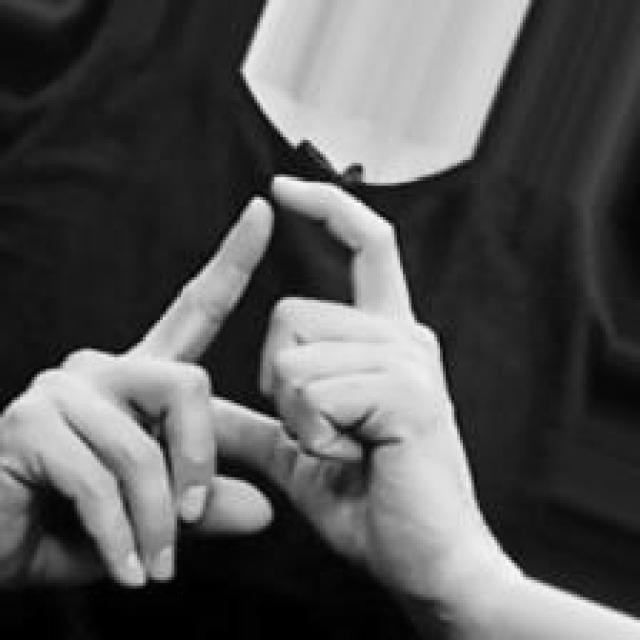D: (4, 169, 519, 640)
